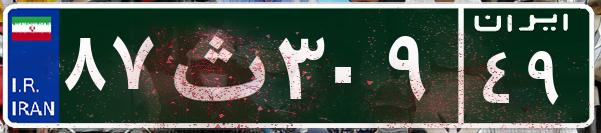0: (330, 28, 385, 110)
3: (273, 28, 330, 110)
4: (475, 38, 525, 113)
7: (110, 28, 158, 105)
8: (57, 26, 110, 107)
9: (385, 28, 445, 110), (525, 38, 570, 115)
ث: (158, 15, 273, 115)
